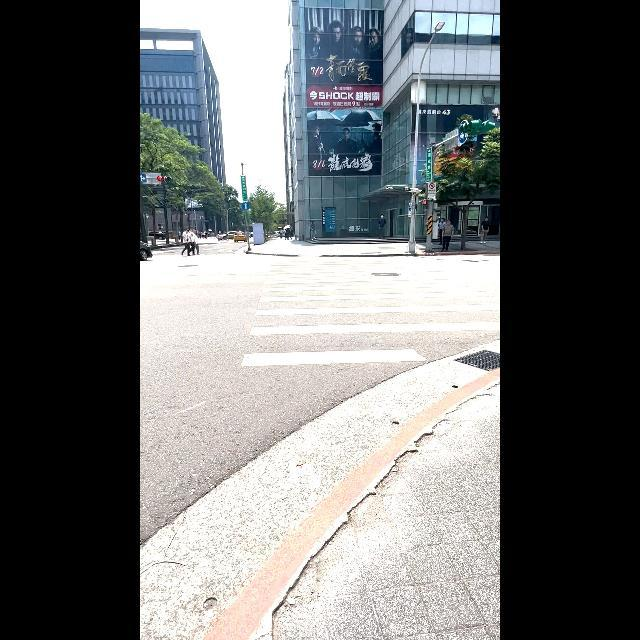sidewalk: (241, 257, 500, 366)
